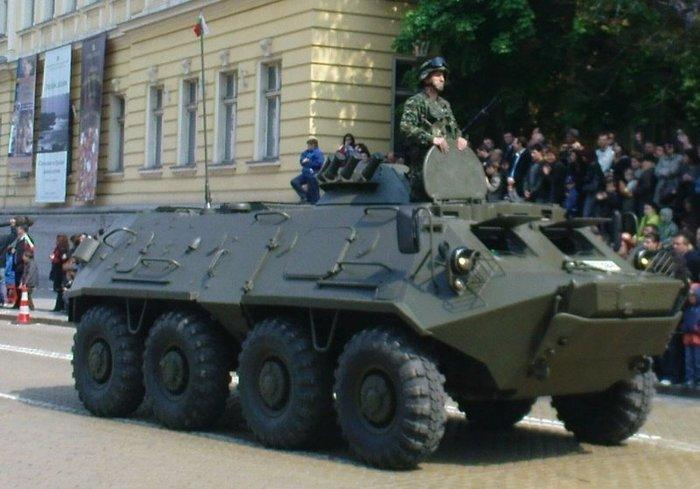MIL_IFV: (67, 137, 690, 469)
